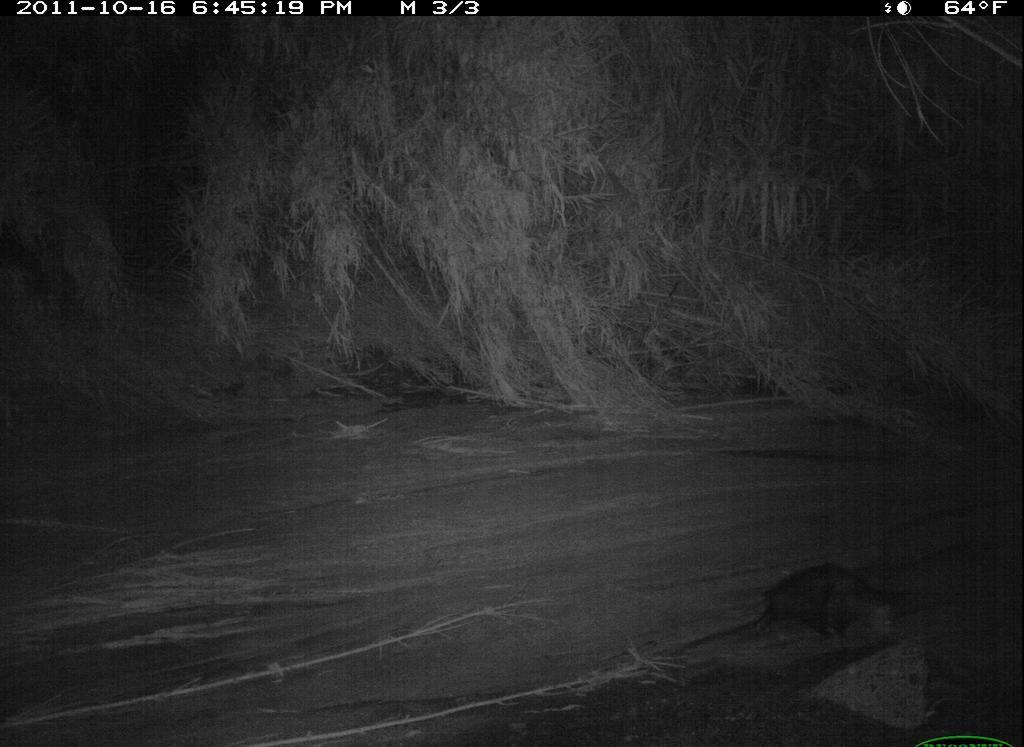opossum: (679, 559, 900, 662)
